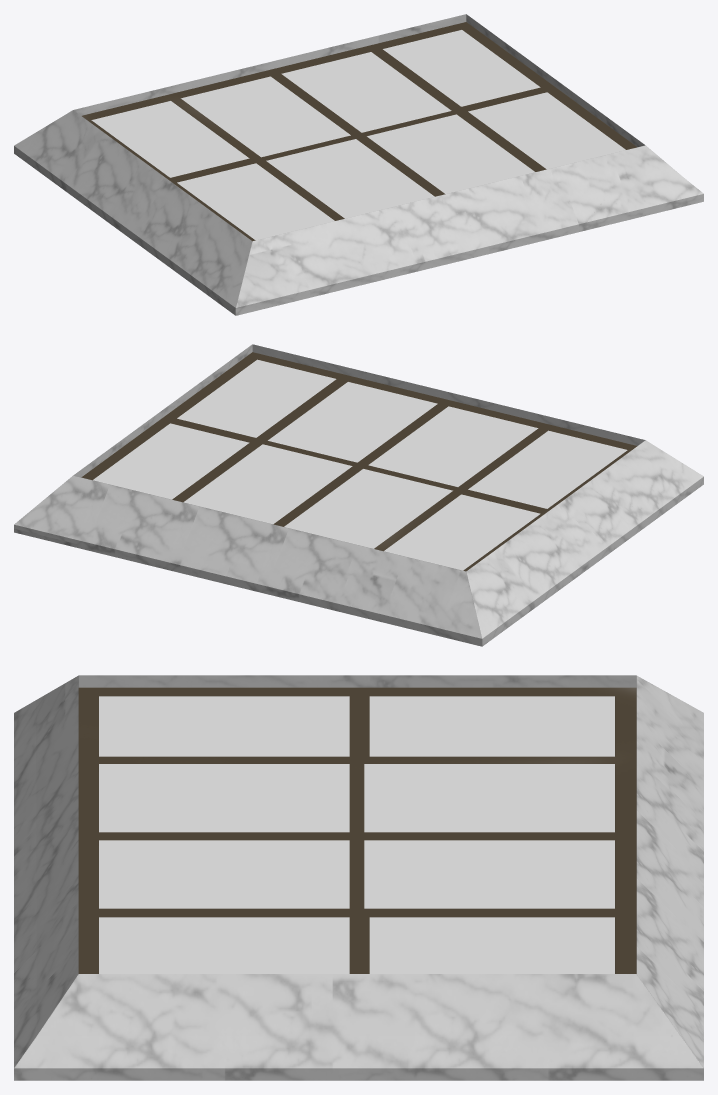
File: TelhadoVidrado.fbx
3 renders of one model, top to bottom at view 1: azimuth 30°, elevation 25°; view 2: azimuth 150°, elevation 25°; view 3: azimuth 270°, elevation 25°, orthographic. The views are drawn at different scales.
Parts seen in each view (by area): view 1: TelhadoVidrado; view 2: TelhadoVidrado; view 3: TelhadoVidrado.
Part boxes in pixels (left/top/right/bottom): TelhadoVidrado: left=14, top=14, right=703, bottom=315; TelhadoVidrado: left=14, top=344, right=703, bottom=646; TelhadoVidrado: left=14, top=675, right=703, bottom=1080.
Size of the model in its own units: 62.4 by 6.4 by 51.2.
